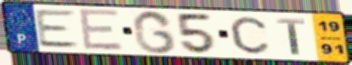5: (176, 12, 219, 55)
C: (228, 15, 271, 55)
E: (77, 7, 126, 52), (33, 9, 82, 49)
G: (131, 9, 179, 55)
T: (275, 17, 308, 56)
